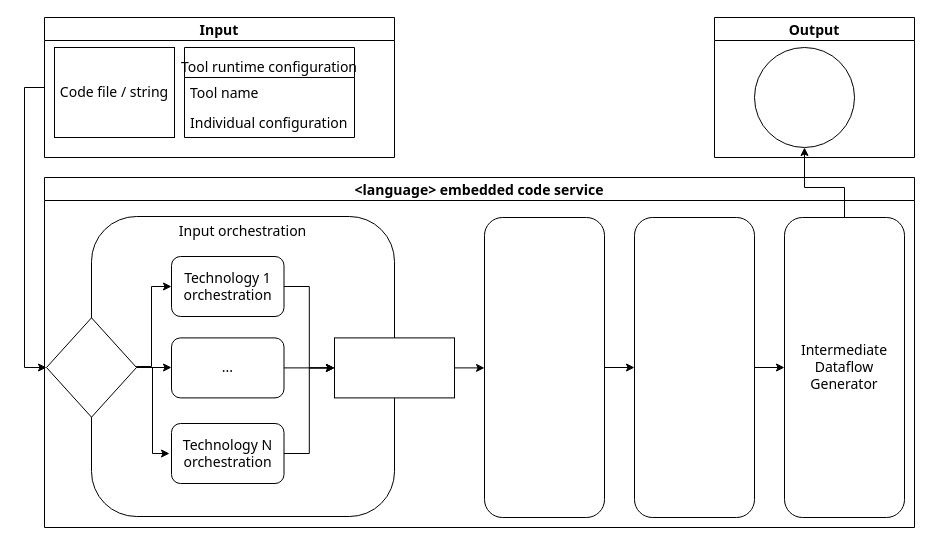
Some shapes in this 932 by 545 pixel diagram are drawn without their labels. Each missing label, with the centre of its shape:
"<language> Extractor" goes at [544,367].
"<language> Reader" goes at [694,367].
"<language> scanner input" goes at [394,367].
"Script graph" goes at [804,97].
"Technology?" goes at [91,367].
